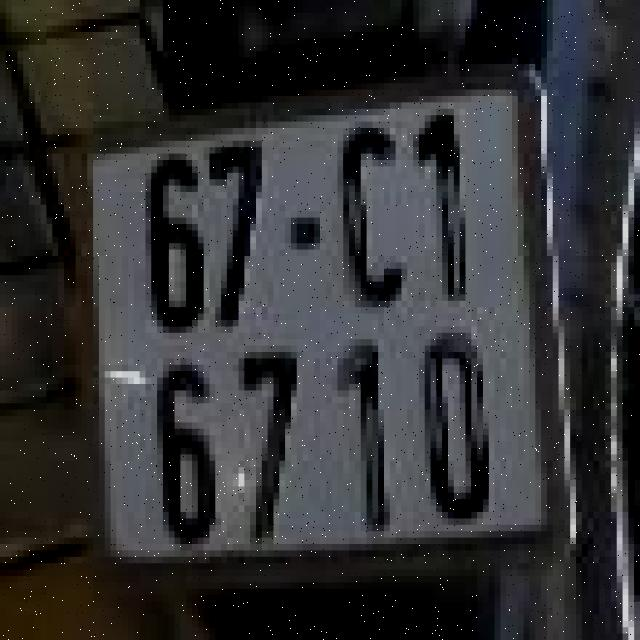0: (410, 332, 503, 538)
1: (407, 100, 477, 310), (328, 339, 398, 538)
6: (140, 349, 215, 541), (136, 150, 206, 336)
7: (227, 320, 314, 557), (201, 134, 276, 340)
C: (323, 115, 422, 307)
